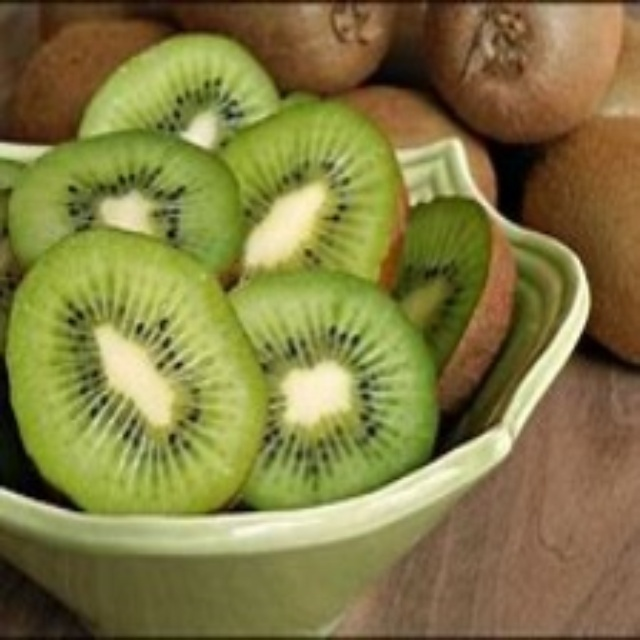kiwi: (23, 47, 435, 511), (527, 117, 639, 351), (444, 3, 619, 135)
